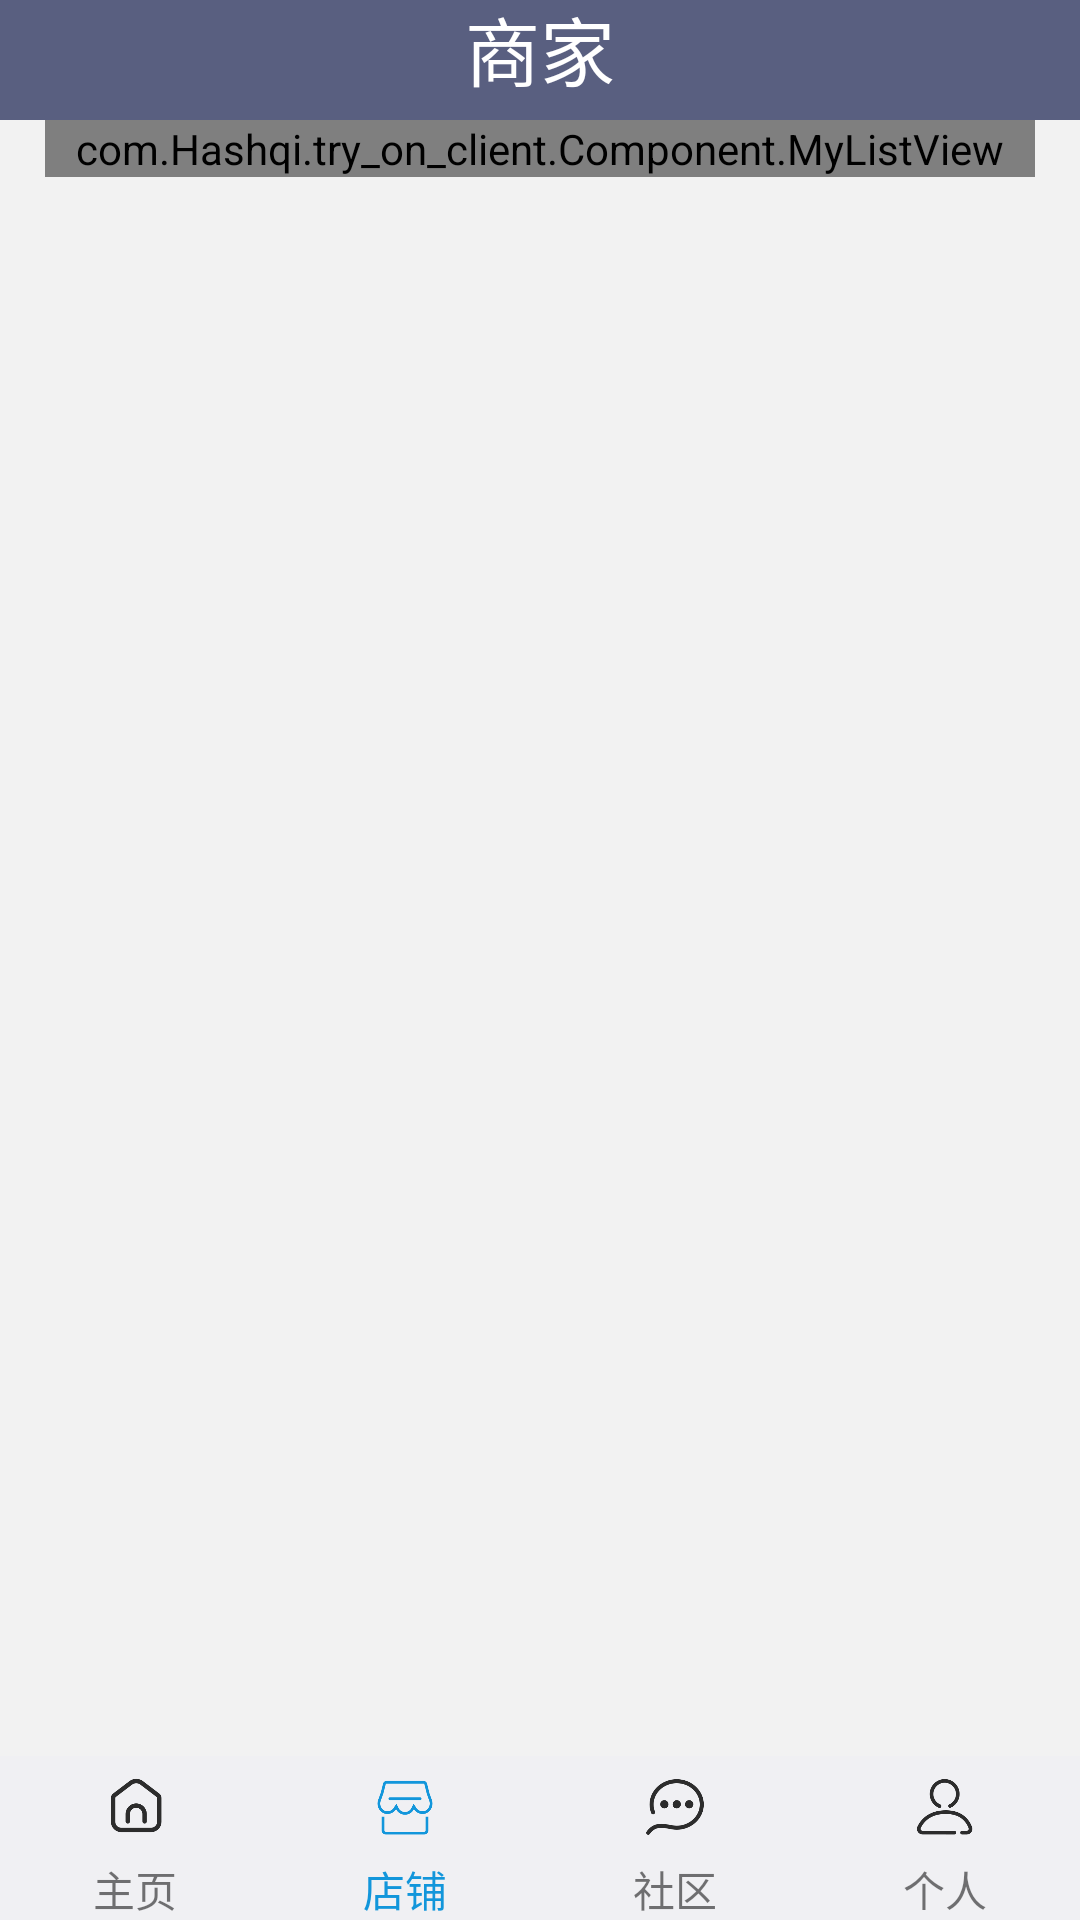

Icon click points for this 1080px x 1920px phone screenshot, format (x,y):
message: (675,1807)
